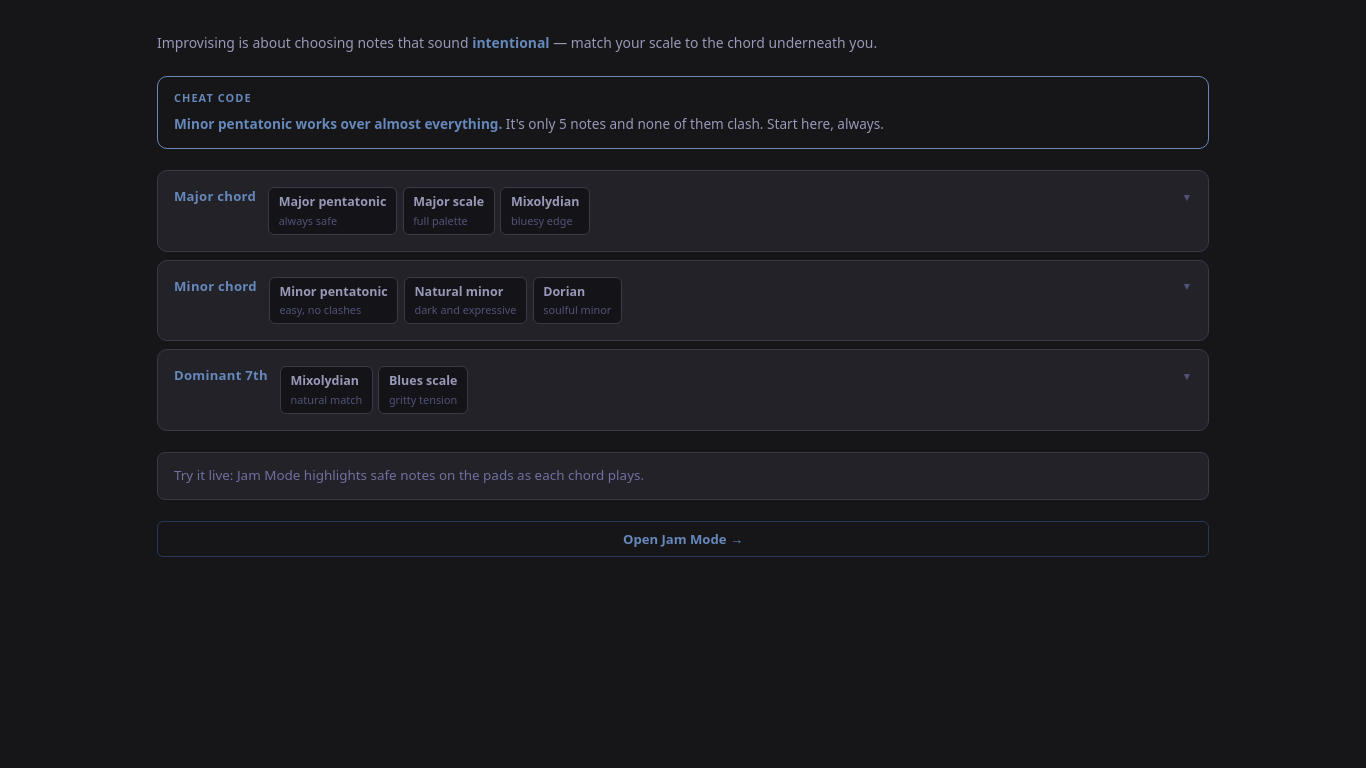
Test: LearnImprovising › clicking a chord item opens its demo panel
This screenshot has width=1366, height=768.
Click the element with class "tc-learn-improv-item" that starts with "Major chord": [683, 211] box [157,170,1209,252]
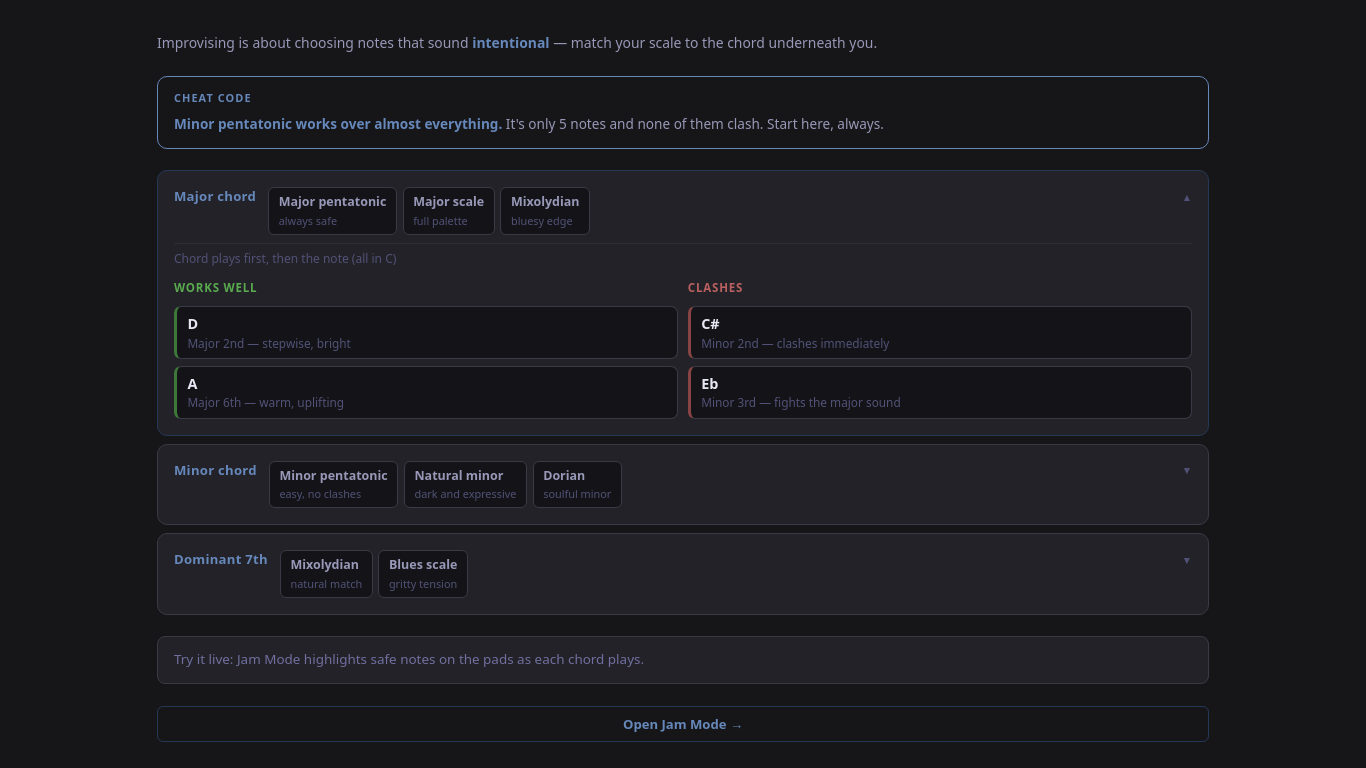
Expected: the element with class "tc-learn-improv-demo" is shown, [174,243,1192,419]
